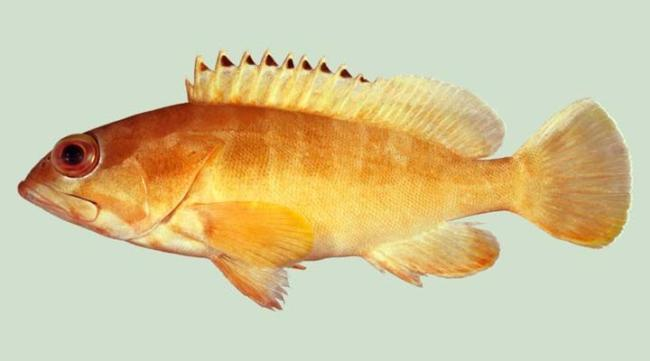fish: (17, 49, 631, 312)
